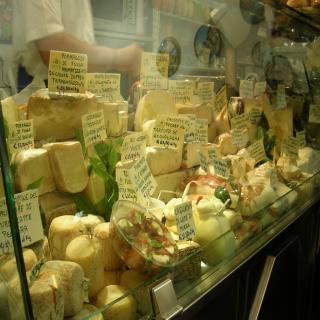Bread: (0, 86, 318, 319), (30, 260, 88, 320)
Cheese: (0, 88, 320, 320)
